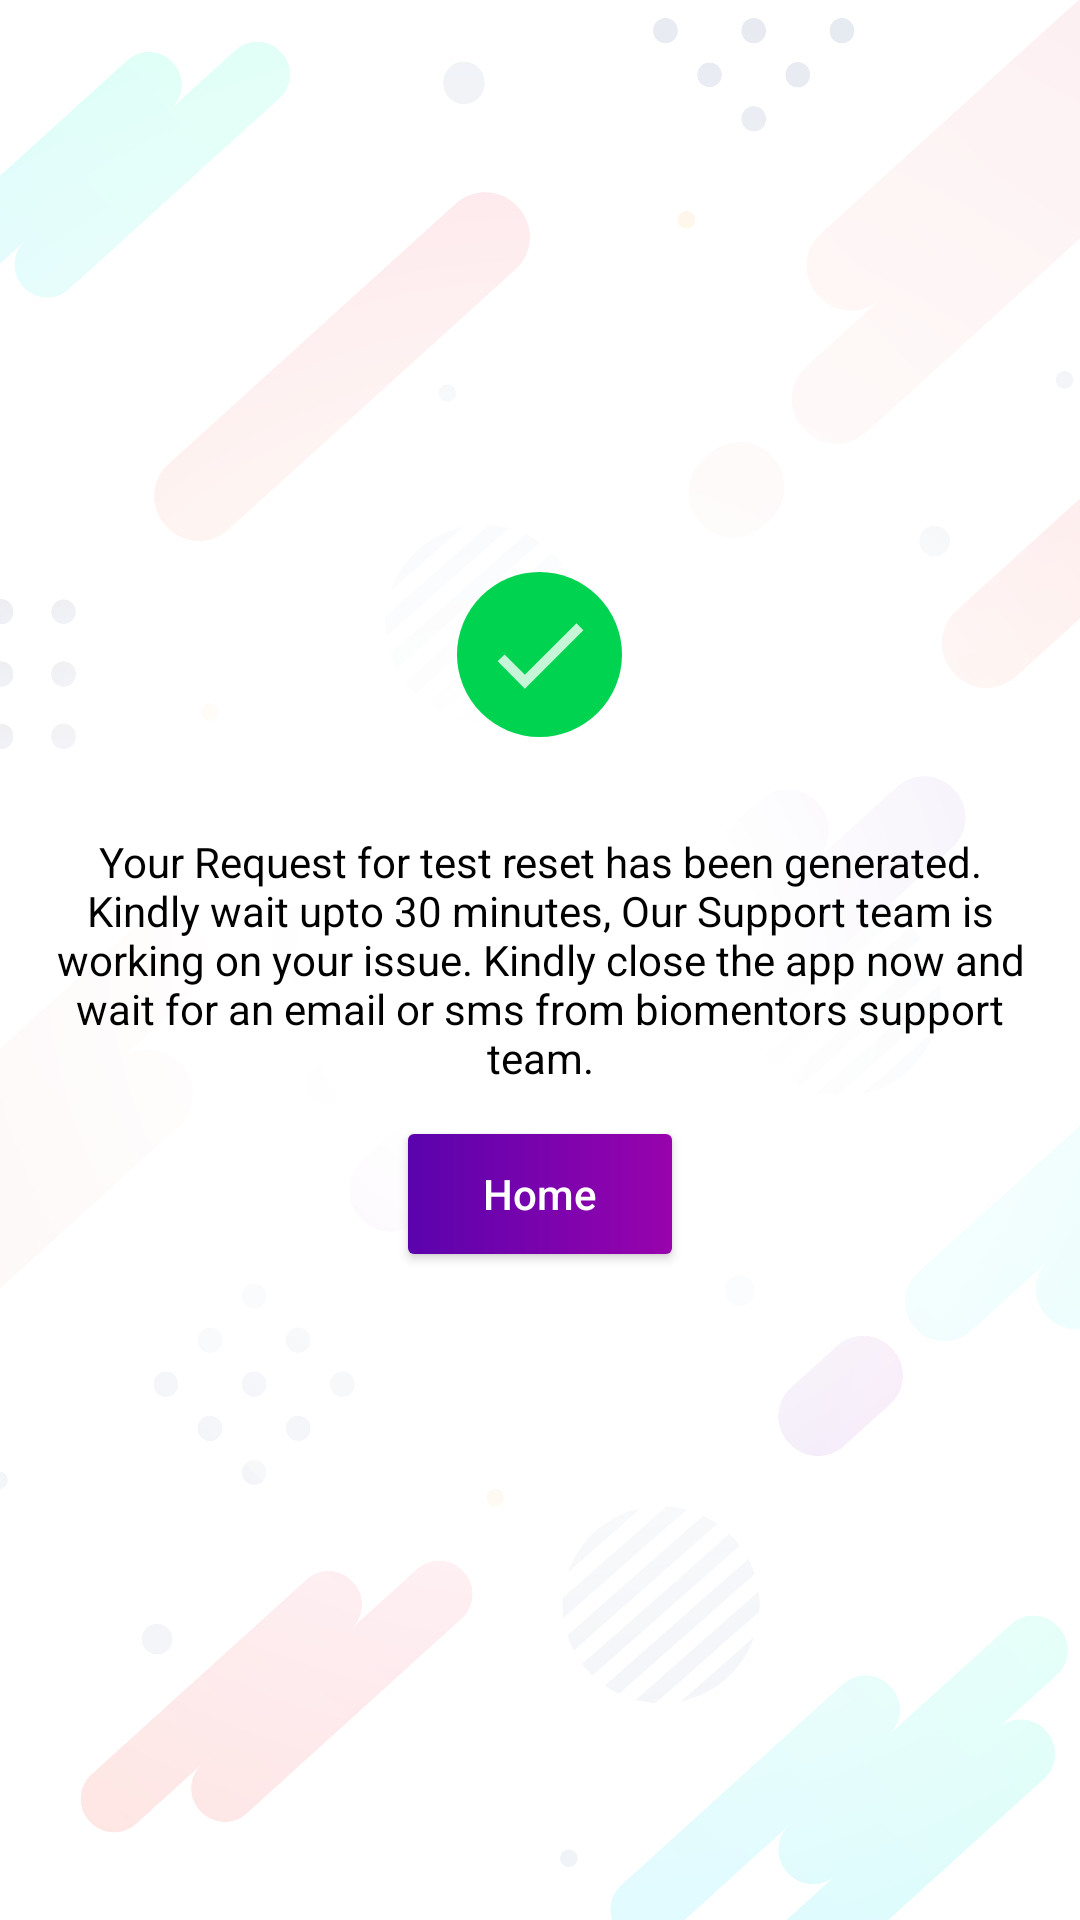

Screen size 1080 × 1920. Icon name, then its box in pixels as detection(x1, y1, x2, y2):
check: detection(457, 572, 622, 737)
